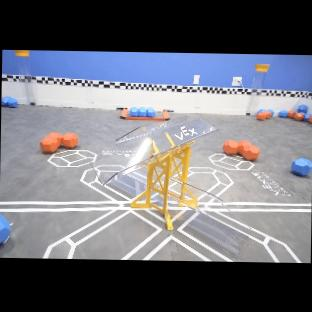Autolimit: (167, 199, 311, 212), (0, 200, 156, 212), (150, 197, 163, 209)
Loader: (14, 50, 39, 112), (246, 64, 269, 115), (246, 71, 264, 115)
Low_goal: (166, 177, 251, 254), (105, 170, 146, 200), (150, 189, 164, 208), (154, 177, 164, 190), (135, 194, 147, 203)
Med_goal: (90, 116, 215, 185)
Parking-R: (118, 108, 169, 121)
V5_BLUE: (290, 157, 312, 176), (129, 106, 159, 117), (0, 215, 10, 244), (1, 95, 17, 108), (278, 109, 288, 118), (297, 104, 307, 112), (303, 113, 307, 121), (268, 110, 274, 115), (257, 109, 266, 112)
V5_RED: (219, 137, 270, 162), (39, 131, 78, 154), (256, 112, 265, 120), (294, 113, 303, 120), (264, 112, 270, 119), (289, 110, 294, 118), (308, 115, 312, 124)
